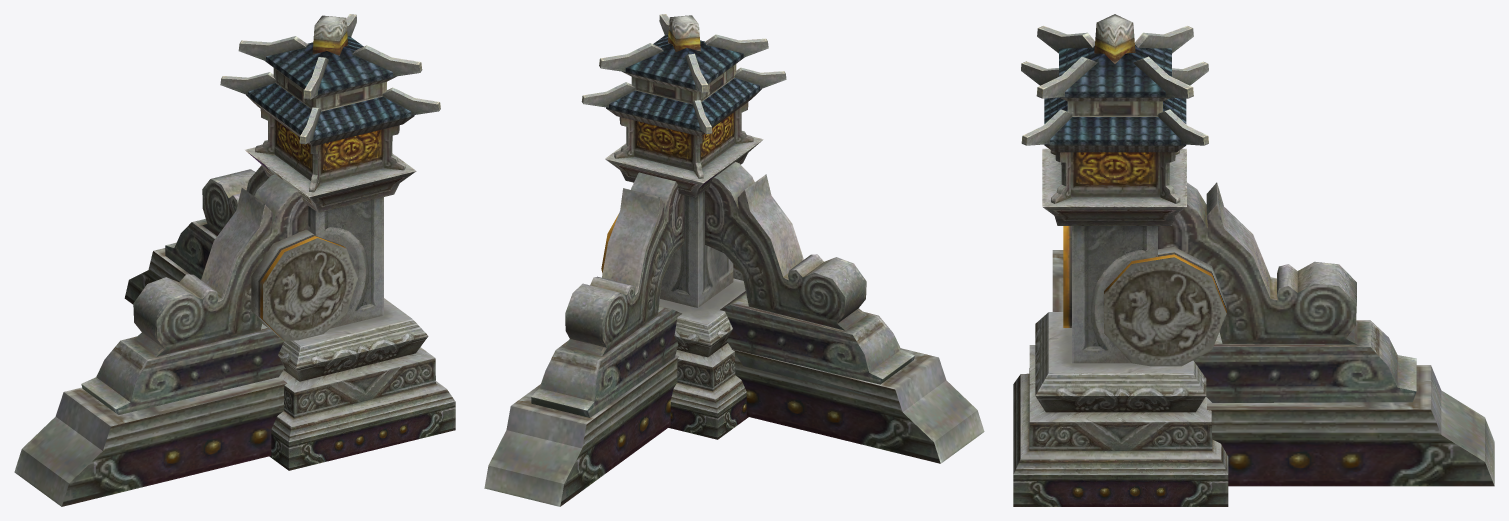
Rendered from jz_jiaoduo01_53_47_8163out.fbx.
The picture shows the model from 3 angles, left to right: view 1: azimuth 30°, elevation 25°; view 2: azimuth 150°, elevation 25°; view 3: azimuth 270°, elevation 25°; orthographic projection. The views are drawn at different scales.
Visible parts, largest first — view 1: jz_jiaoduo01; view 2: jz_jiaoduo01; view 3: jz_jiaoduo01.
Boxes of the visible parts, <box> form: jz_jiaoduo01: <box>14,14,455,506</box>; jz_jiaoduo01: <box>484,14,984,506</box>; jz_jiaoduo01: <box>1013,14,1494,506</box>.
Bounding box in the file's own units: 1.58 × 1.6 × 1.56.
